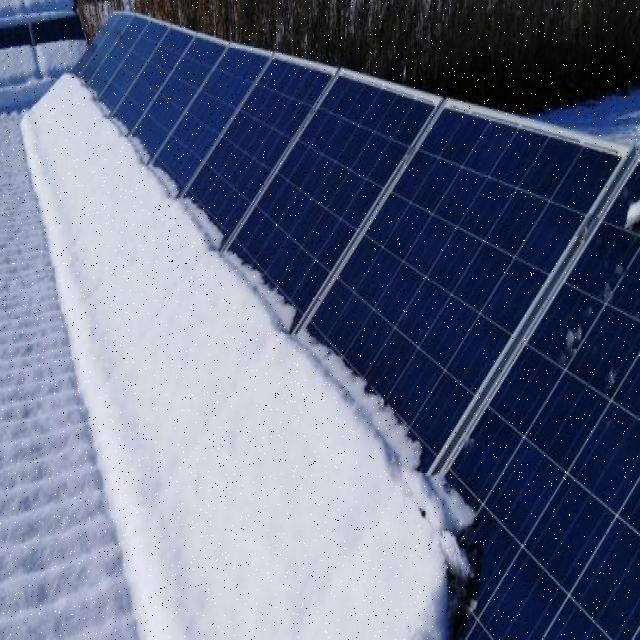snow covered: (22, 62, 469, 633)
